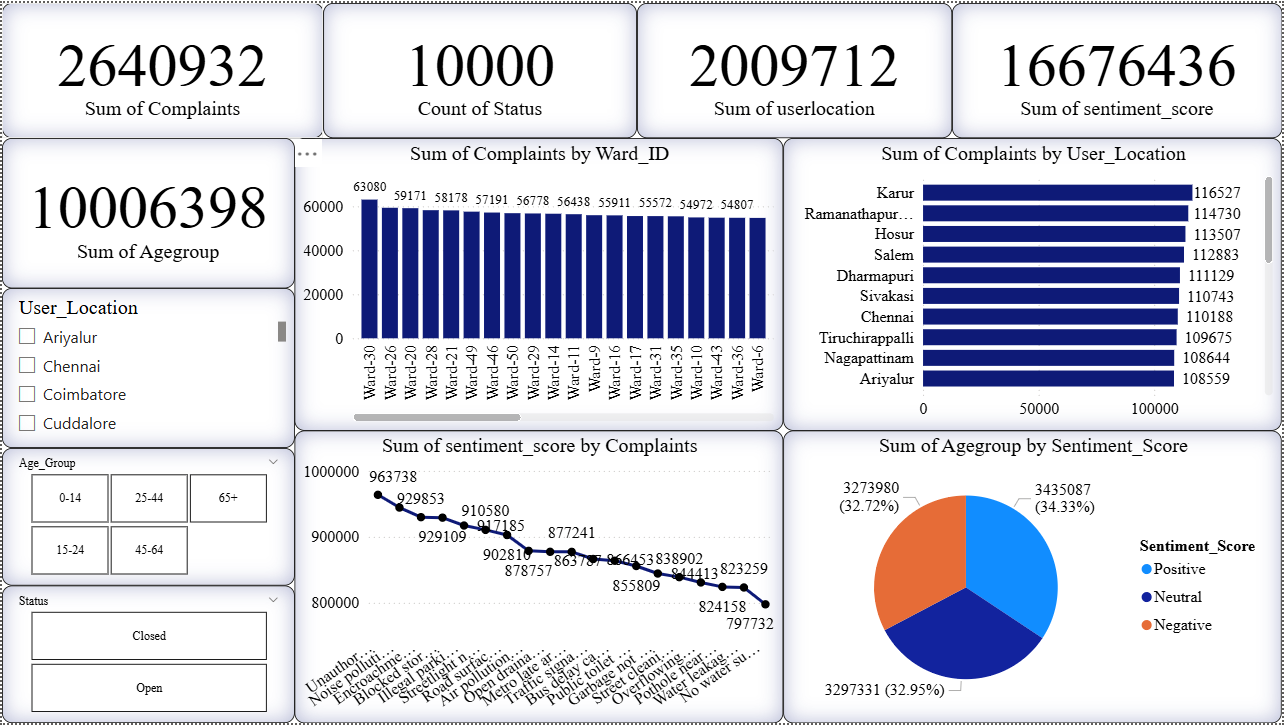

What the dashboard file says about the page in this screenshot:
{"tool":"powerbi","page":{"name":"Page 1","canvas":[1280,720],"ordinal":4},"visuals":[{"type":"columnChart","title":"Sum of Complaints by Ward_ID","fields":{"Category":["demographics1.Ward_ID"],"Y":["Sum(311_service_requests1.SumOfComplaints)"]},"box":[292.5,135,488.8,292.5],"z":0},{"type":"card","fields":{"Values":["Sum(311_service_requests1.SumOfComplaints)"]},"box":[0,0,321.2,135],"z":1000},{"type":"slicer","fields":{"Values":["311_service_requests1.Status"]},"box":[0,582.5,292.5,137.5],"z":2000},{"type":"lineChart","title":"Sum of sentiment_score by Complaints","fields":{"Category":["311_service_requests1.Complaints"],"Y":["Sum(social_media_sentiment1.sumofsentiment1)"]},"box":[292.5,427.5,488.8,292.5],"z":3000},{"type":"slicer","fields":{"Values":["demographics1.Age_Group"]},"box":[0,445,292.5,137.5],"z":4000},{"type":"pieChart","title":"Sum of  Agegroup by Sentiment_Score","fields":{"Y":["Sum(demographics1.sumofAgegroup)"],"Category":["social_media_sentiment1.Sentiment_Score"]},"box":[781.2,427.5,498.8,292.5],"z":5000},{"type":"card","fields":{"Values":["Sum(demographics1.sumofAgegroup)"]},"box":[0,135,292.5,150],"z":6000},{"type":"barChart","title":"Sum of Complaints by User_Location","fields":{"Category":["social_media_sentiment1.User_Location"],"Y":["Sum(311_service_requests1.SumOfComplaints)"]},"box":[781.2,135,498.8,292.5],"z":7000},{"type":"card","fields":{"Values":["CountNonNull(311_service_requests1.SumOfStatus)"]},"box":[321.2,0,313.8,135],"z":8000},{"type":"card","fields":{"Values":["Sum(social_media_sentiment1.sumofuserlocation)"]},"box":[635,0,315,135],"z":9000},{"type":"card","fields":{"Values":["Sum(social_media_sentiment1.sumofsentiment1)"]},"box":[950,0,330,135],"z":10000},{"type":"slicer","fields":{"Values":["social_media_sentiment1.User_Location"]},"box":[0,285,292.5,160],"z":11000}]}

Visuals, with their boxes in screenshot pixels (x1, y1, x2, y2), scaled from the page's 1280x720 canvas onto the 1285x727 screenshot:
"Sum of Complaints by Ward_ID" columnChart: 294,136,784,432
card - Sum(311_service_requests1.SumOfComplaints): 0,0,322,136
slicer - 311_service_requests1.Status: 0,588,294,726
"Sum of sentiment_score by Complaints" lineChart: 294,432,784,726
slicer - demographics1.Age_Group: 0,449,294,588
"Sum of  Agegroup by Sentiment_Score" pieChart: 784,432,1284,726
card - Sum(demographics1.sumofAgegroup): 0,136,294,288
"Sum of Complaints by User_Location" barChart: 784,136,1284,432
card - CountNonNull(311_service_requests1.SumOfStatus): 322,0,637,136
card - Sum(social_media_sentiment1.sumofuserlocation): 637,0,954,136
card - Sum(social_media_sentiment1.sumofsentiment1): 954,0,1284,136
slicer - social_media_sentiment1.User_Location: 0,288,294,449
